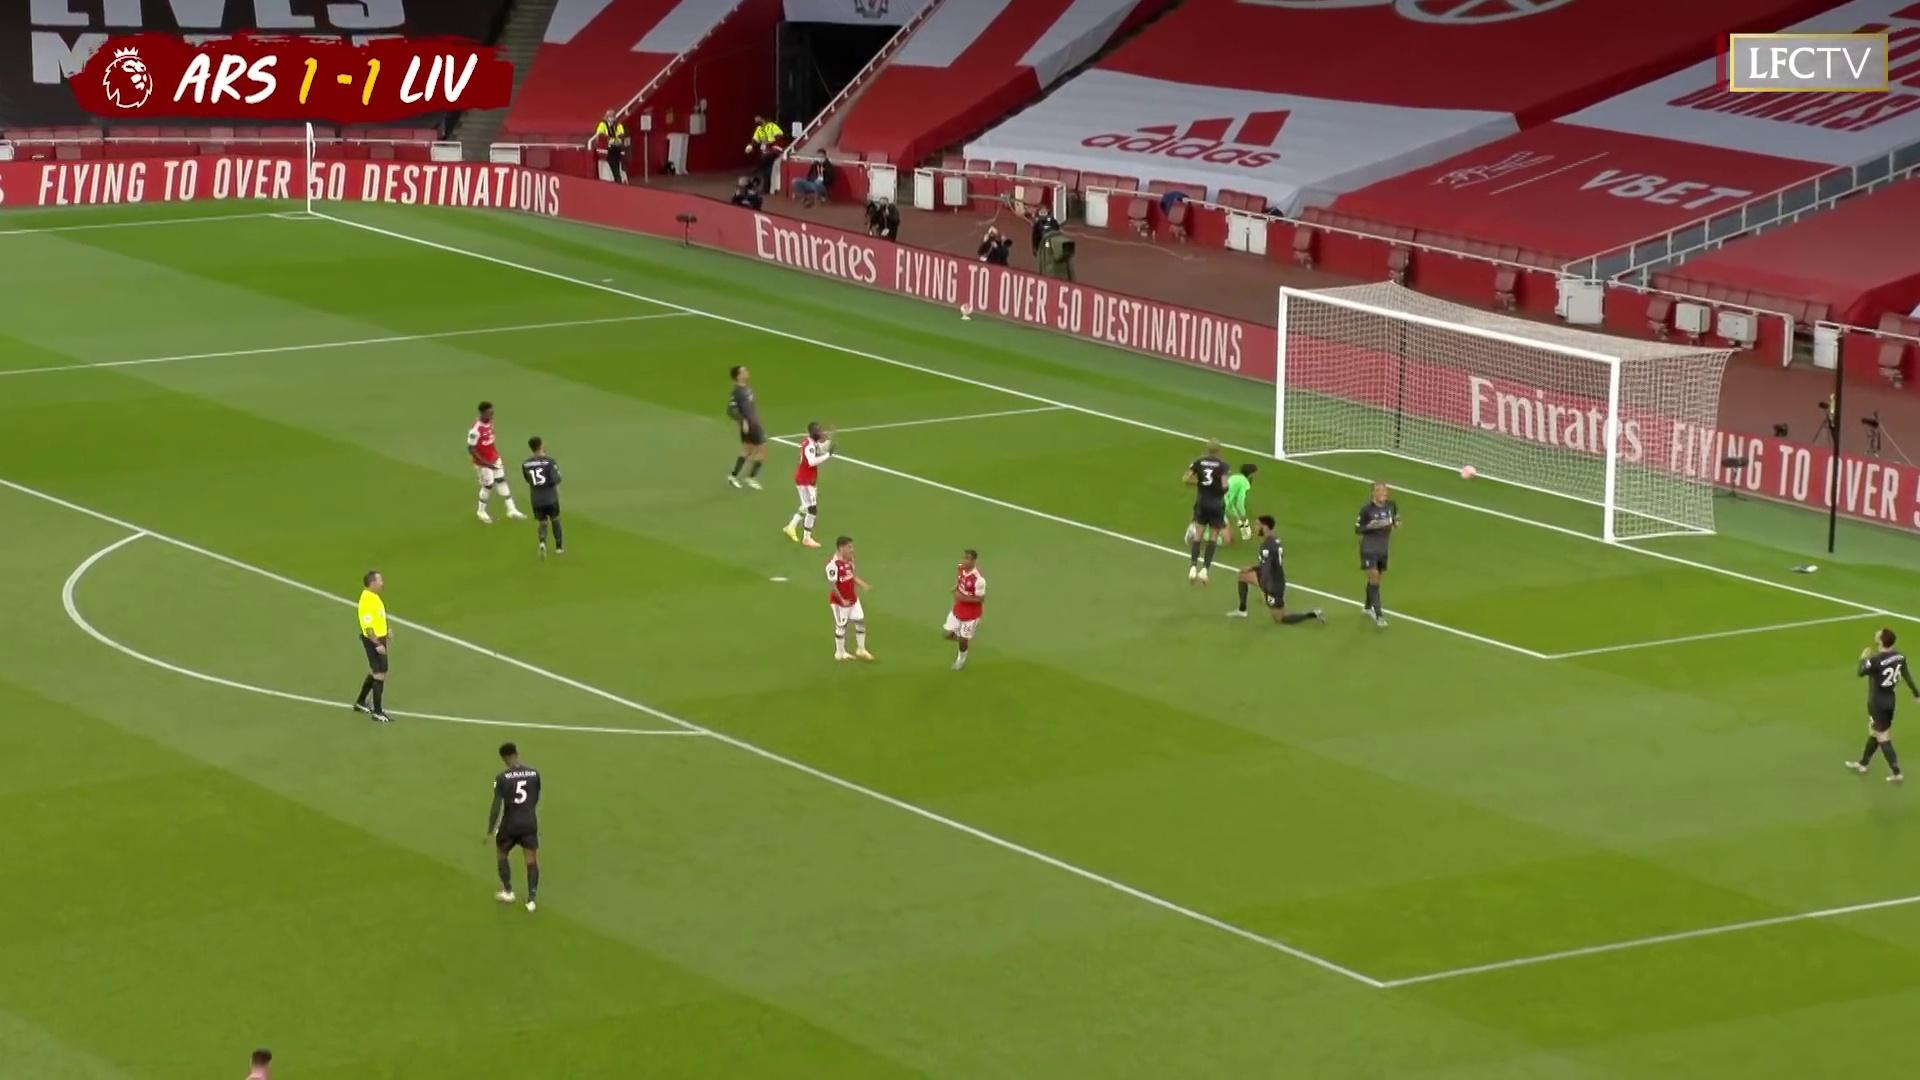ball: (1460, 463, 1477, 481)
